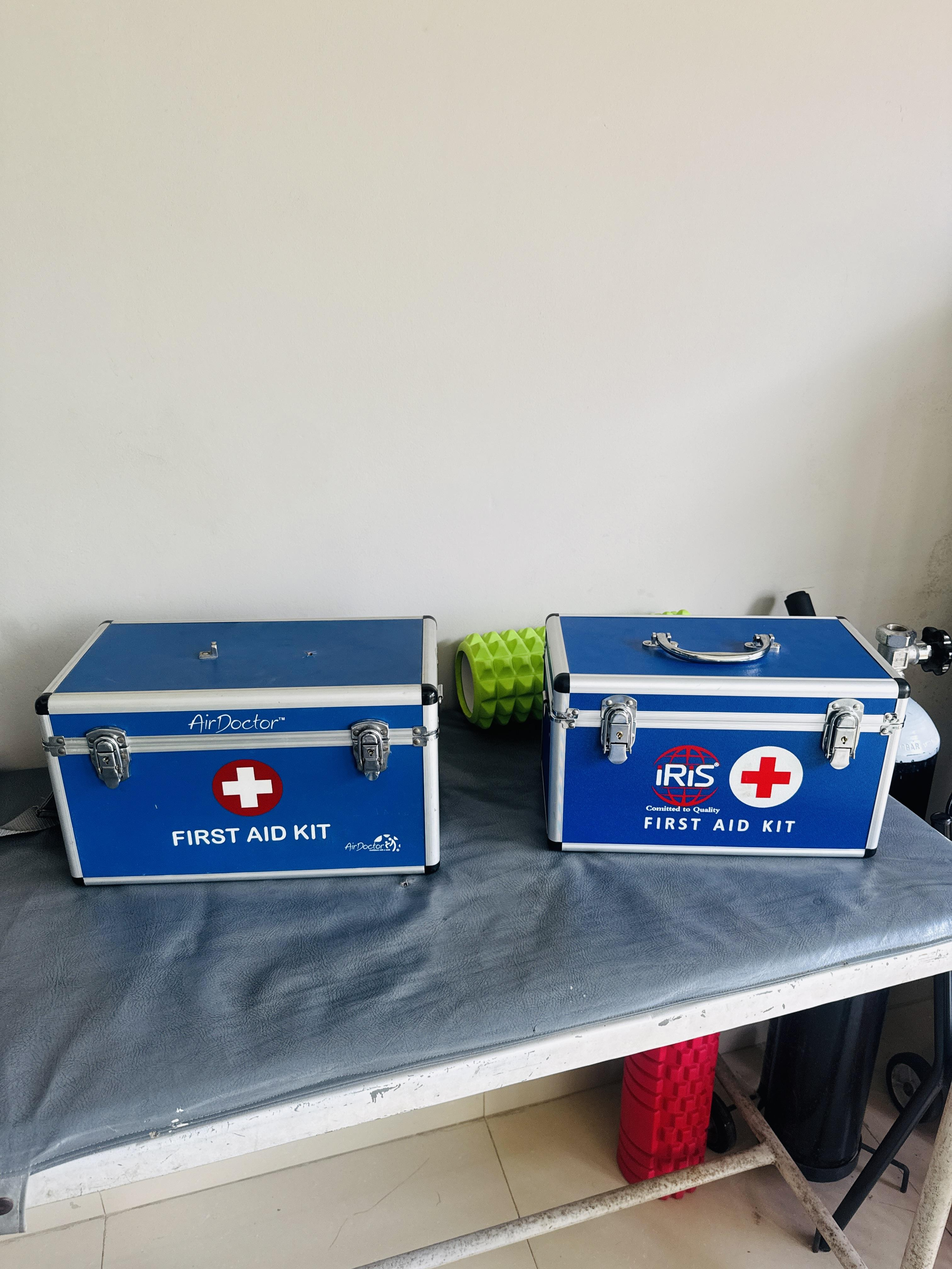FirstAidBox: (17, 585, 455, 917), (529, 588, 909, 893)
